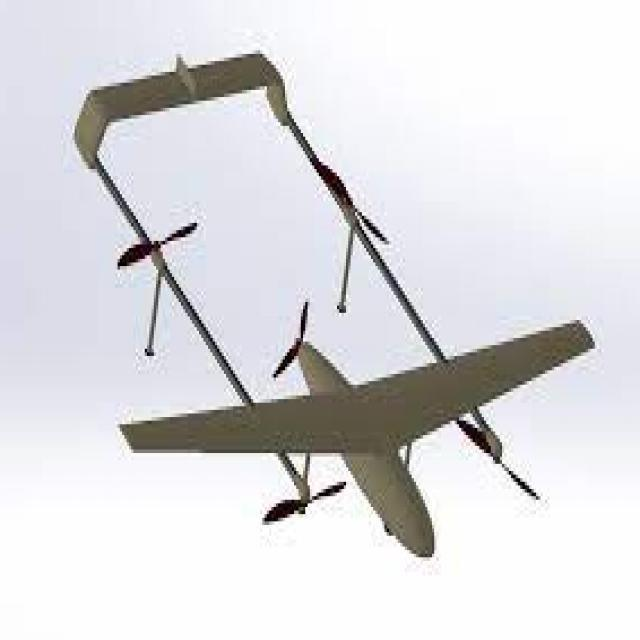UAV: (62, 46, 577, 548)
